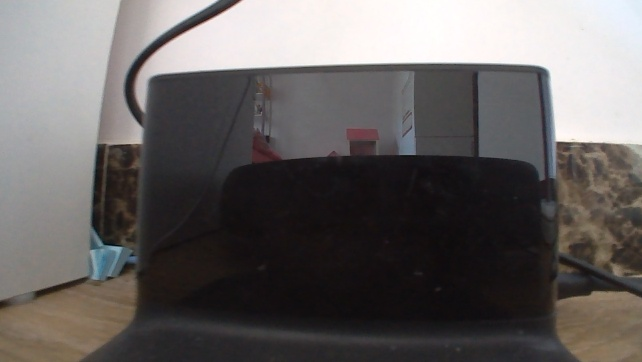wire: (120, 0, 241, 127), (558, 248, 641, 304)
